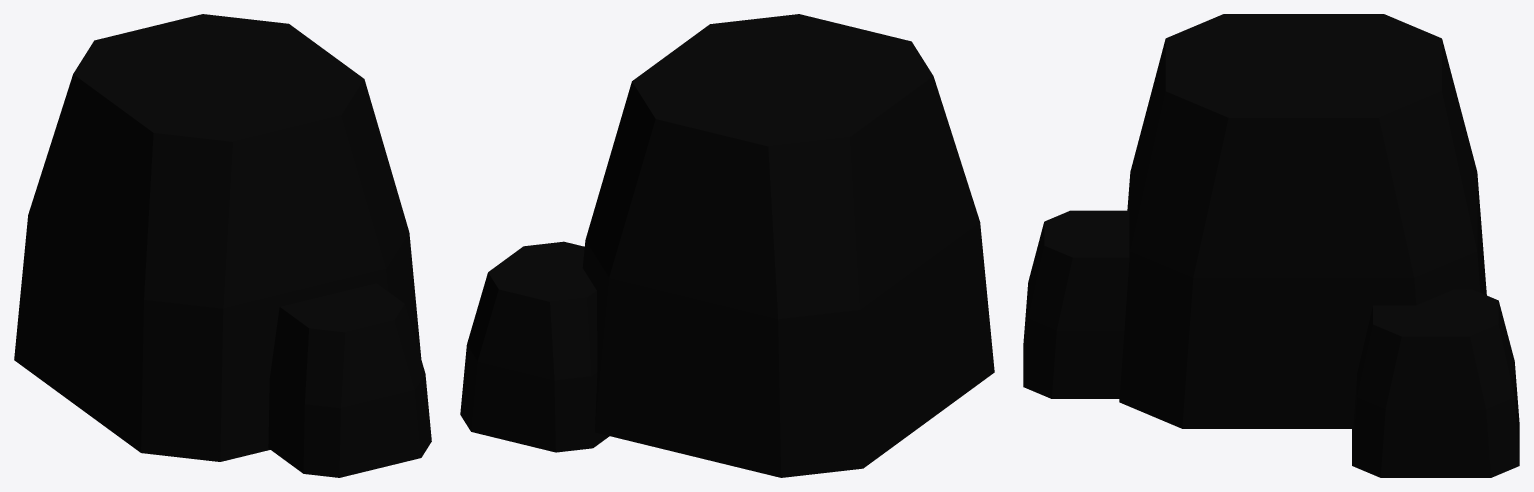
Rendered from Pedra1.fbx.
3 renders of one model, left to right at view 1: azimuth 30°, elevation 25°; view 2: azimuth 150°, elevation 25°; view 3: azimuth 270°, elevation 25°, orthographic. The views are drawn at different scales.
Visible parts, largest first — view 1: Pedra1; view 2: Pedra1; view 3: Pedra1.
Part boxes in pixels (x1,y1,x2,y2): Pedra1: (14,14,431,477); Pedra1: (460,14,994,477); Pedra1: (1023,14,1519,477).
Size of the model in its own units: 224 by 183 by 269.
